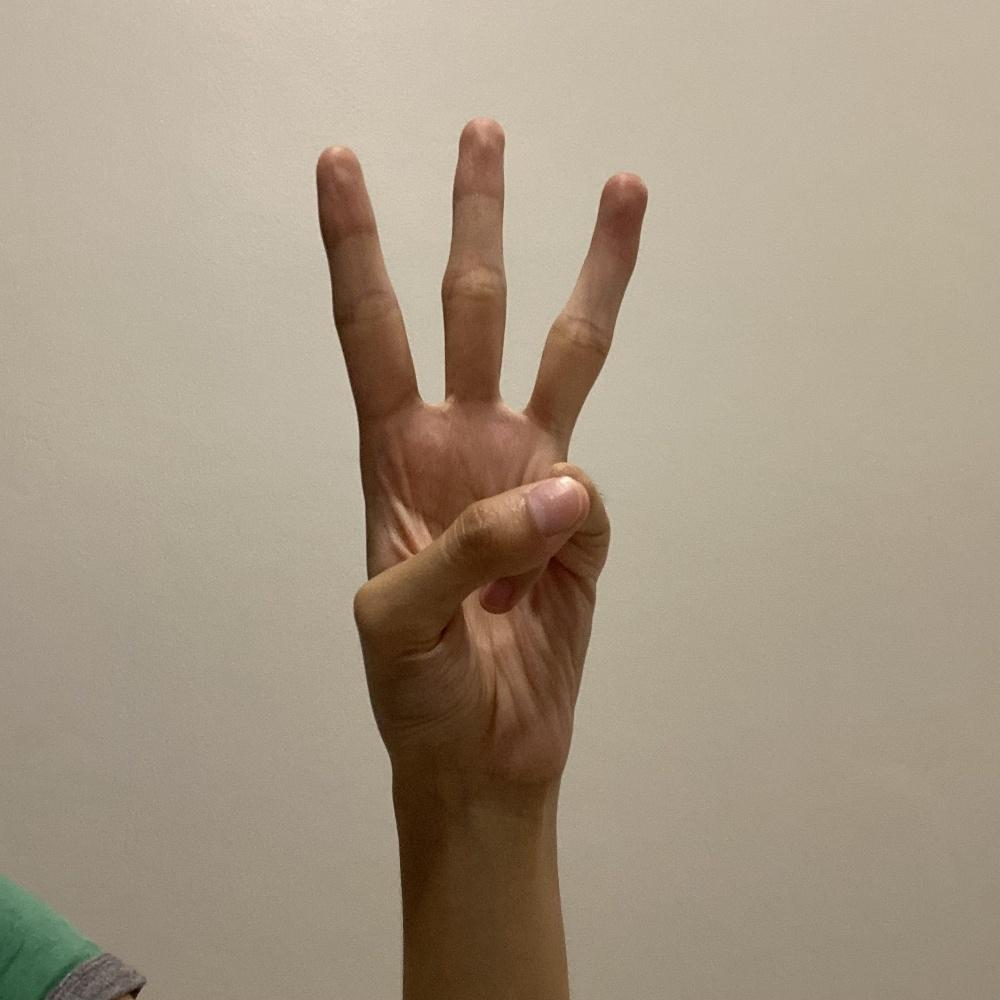w: (309, 111, 652, 790)
